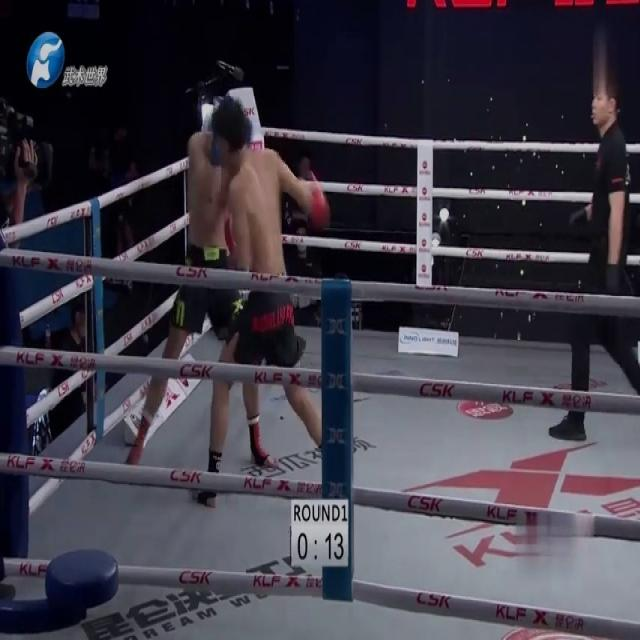fight: (134, 88, 334, 505)
non-fight: (569, 73, 639, 446)
